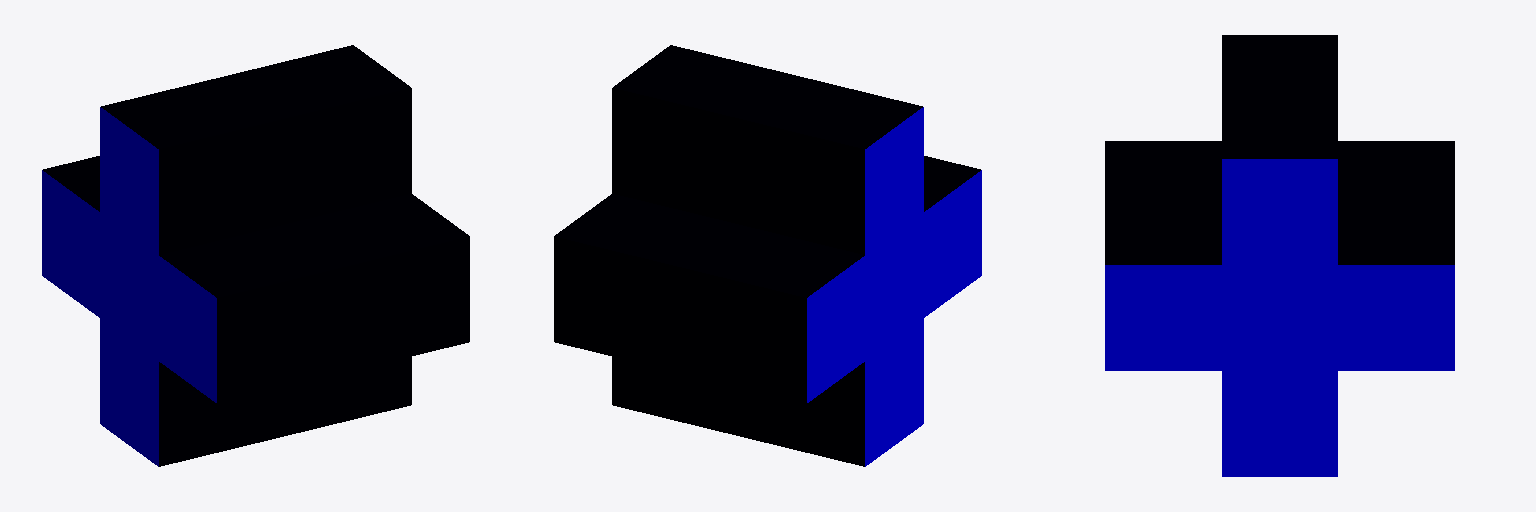
The model's file is Ball2.obj.
3 views of the same model, side by side, from view 1: azimuth 30°, elevation 25°; view 2: azimuth 150°, elevation 25°; view 3: azimuth 270°, elevation 25° (orthographic).
Parts seen in each view (by area): view 1: pCube2 XP; view 2: pCube2 XP; view 3: pCube2 XP.
Boxes of the visible parts, <box> form: pCube2 XP: <box>42,45,469,466</box>; pCube2 XP: <box>554,45,981,466</box>; pCube2 XP: <box>1105,35,1454,476</box>.
Size of the model in its own units: 2.5 by 3 by 3.